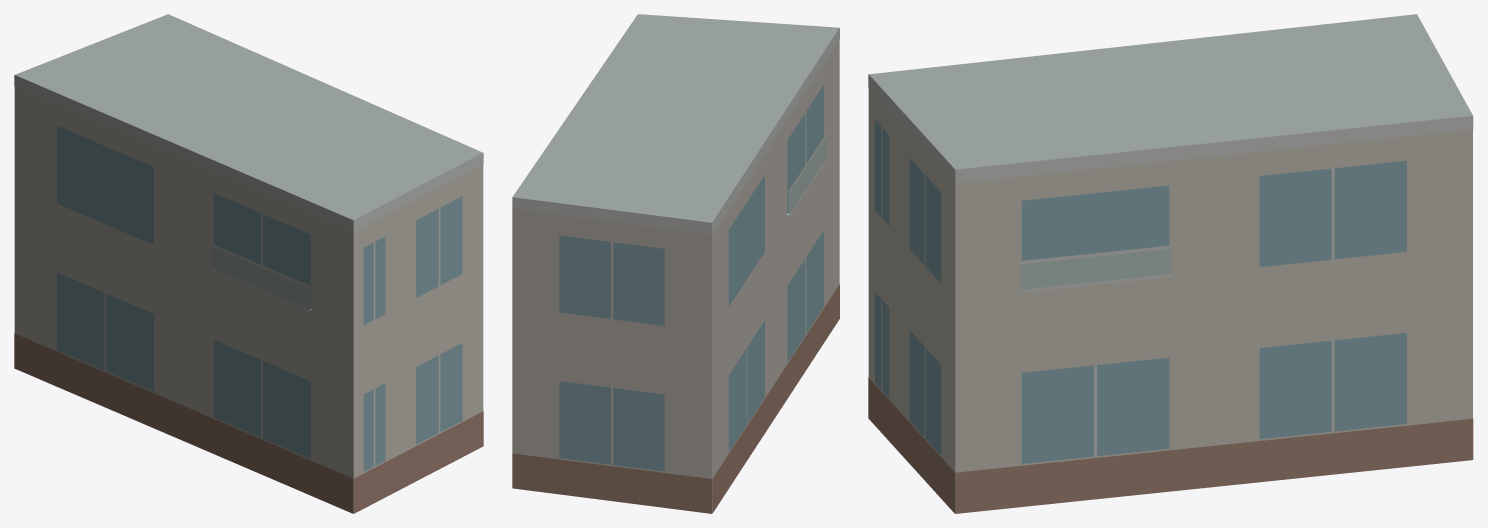
Rendered from survey-upis-32483146.glb.
3 renders of one model, left to right at view 1: azimuth 30°, elevation 25°; view 2: azimuth 150°, elevation 25°; view 3: azimuth 270°, elevation 25°, orthographic. The views are drawn at different scales.
Visible parts, largest first — view 1: survey-upis-32483146.tmp; view 2: survey-upis-32483146.tmp; view 3: survey-upis-32483146.tmp.
Boxes of the visible parts, x1,y1,x2,y2 form: survey-upis-32483146.tmp: (14,14,483,513); survey-upis-32483146.tmp: (512,14,839,513); survey-upis-32483146.tmp: (868,14,1473,513).
Bounding box in the file's own units: 5.92 × 6.1 × 9.72.
